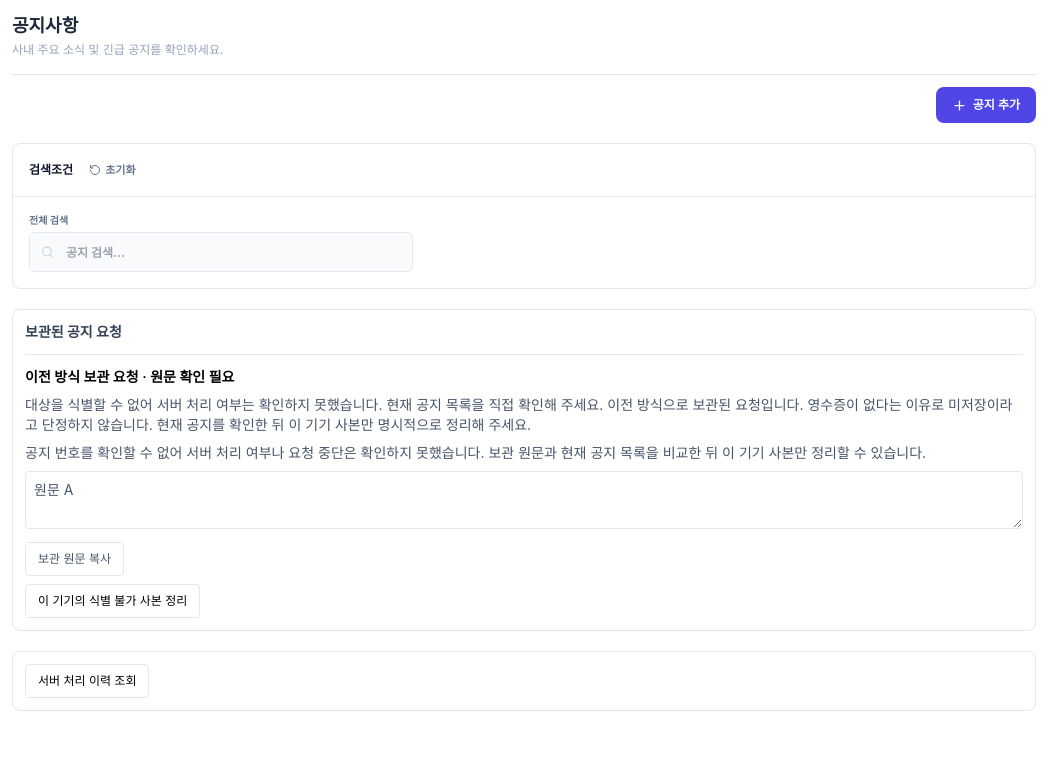
식별 불가 legacy의 화면 관측 참조가 바뀌면 새 참조와 본문을 모두 보존한다
This screenshot has width=1048, height=780.
Click the button "이 기기의 식별 불가 사본 정리" at (113, 601), box x1=25 y1=584 x2=200 y2=618
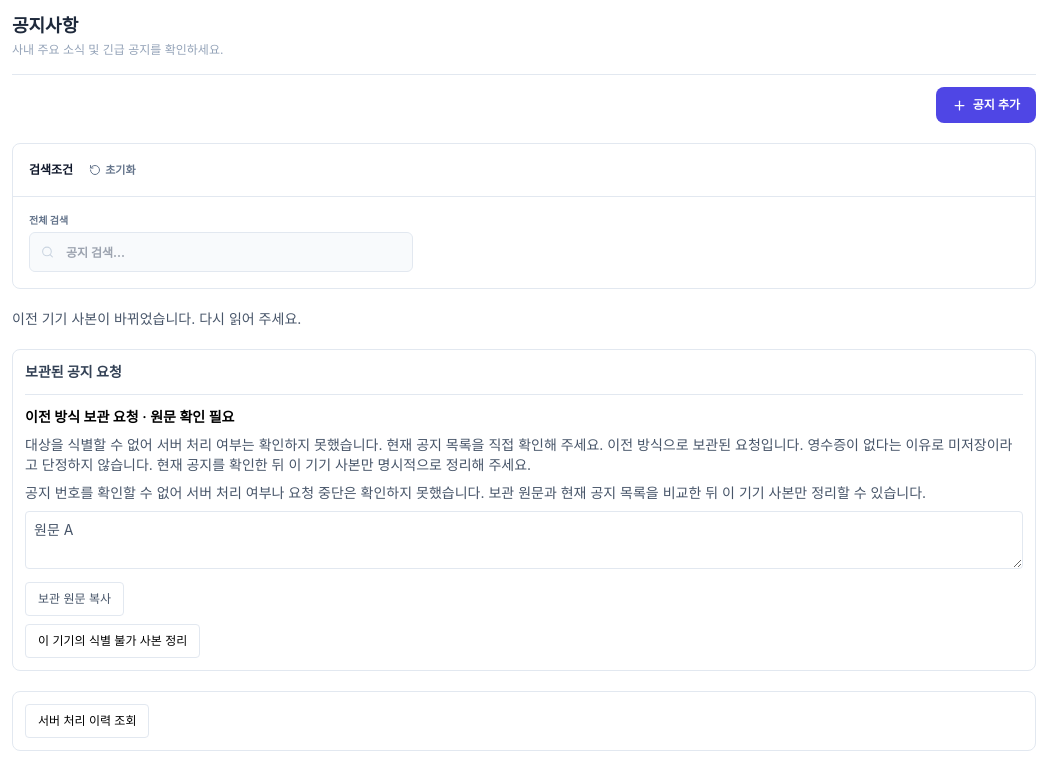
Check: the text "이전 기기 사본이 바뀌었습니다. 다시 읽어 주세요." is shown, box x1=12 y1=310 x2=301 y2=327
